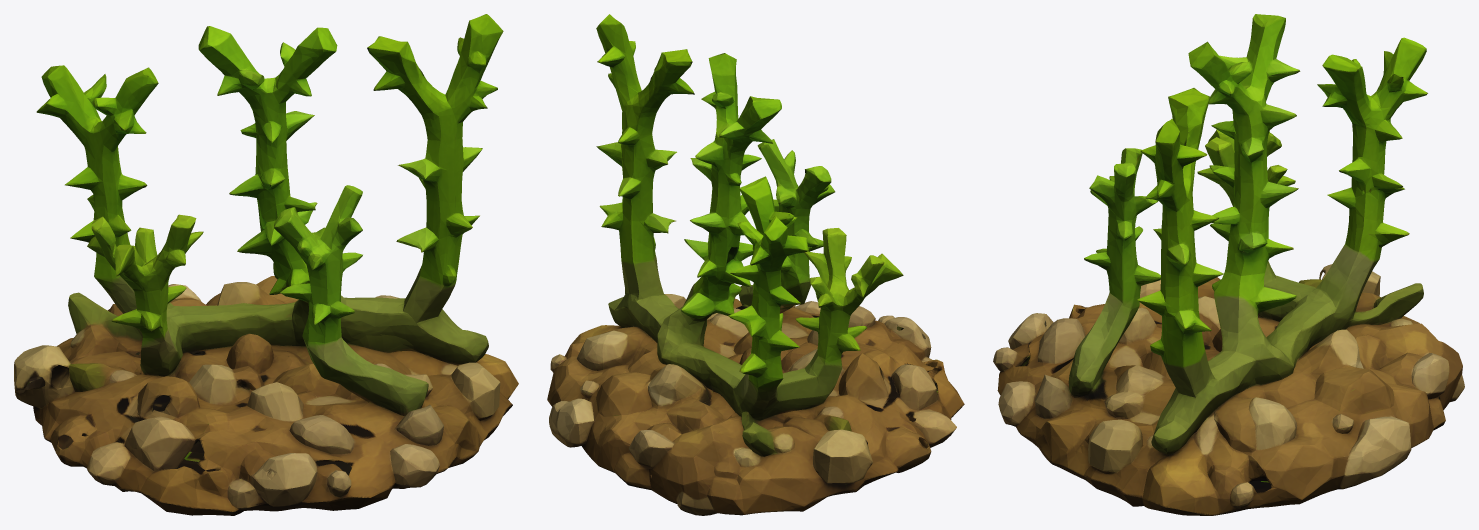
3 renders of one model, left to right at view 1: azimuth 30°, elevation 25°; view 2: azimuth 150°, elevation 25°; view 3: azimuth 270°, elevation 25°, orthographic. The views are drawn at different scales.
Visible parts, largest first — view 1: world; view 2: world; view 3: world.
Part boxes in pixels (x1,y1,x2,y2): world: (14, 14, 518, 515); world: (547, 14, 964, 515); world: (993, 14, 1464, 515).
Size of the model in its own units: 0.9783 by 0.8963 by 0.9533.
Materials: 1 (1 with a texture image).
